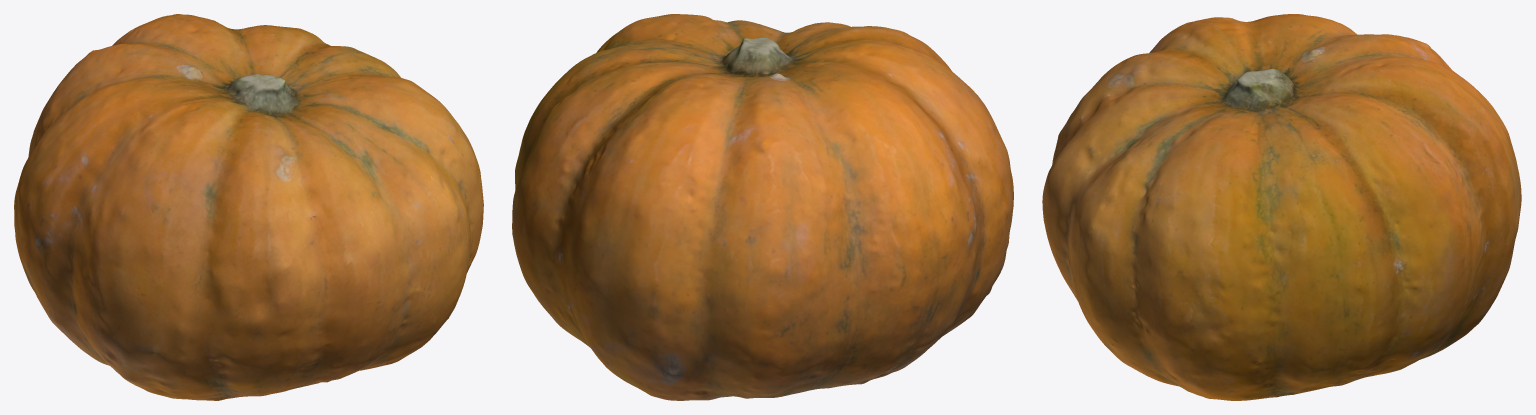
The model's file is sf-pumpkin-5866a5.glb.
The picture shows the model from 3 angles, left to right: view 1: azimuth 30°, elevation 25°; view 2: azimuth 150°, elevation 25°; view 3: azimuth 270°, elevation 25°; orthographic projection. The views are drawn at different scales.
Parts seen in each view (by area): view 1: pumpkin_0; view 2: pumpkin_0; view 3: pumpkin_0.
Boxes of the visible parts, box(x1,y1,x2,y2) form: pumpkin_0: box(14, 14, 483, 400); pumpkin_0: box(512, 14, 1013, 400); pumpkin_0: box(1042, 14, 1521, 400).
Size of what is drawn, in the model's own units: 1.63 by 1.13 by 1.67.
Materials: 1 (1 with a texture image).
